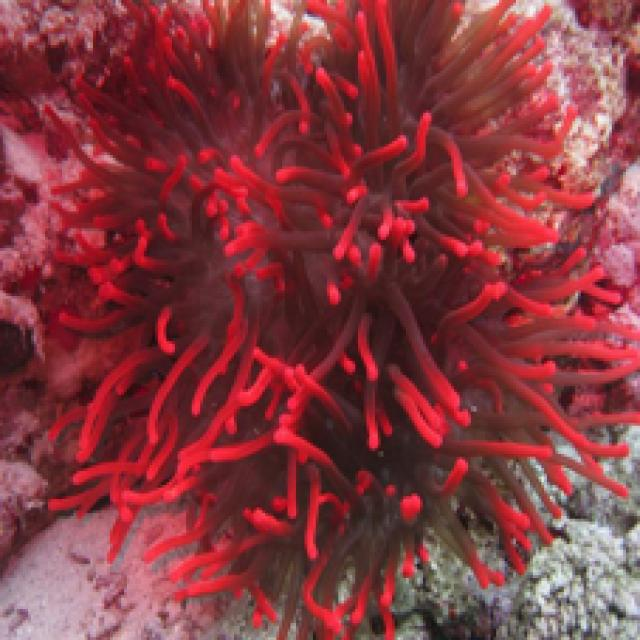Healthy: (43, 1, 638, 638)
